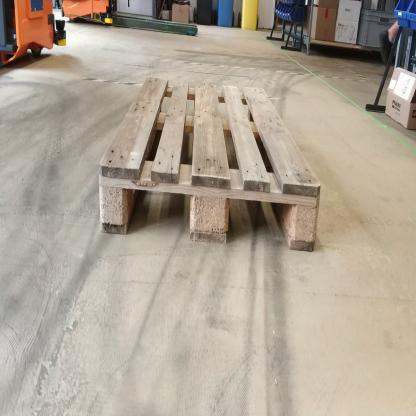BoxFace: (90, 70, 326, 264)
